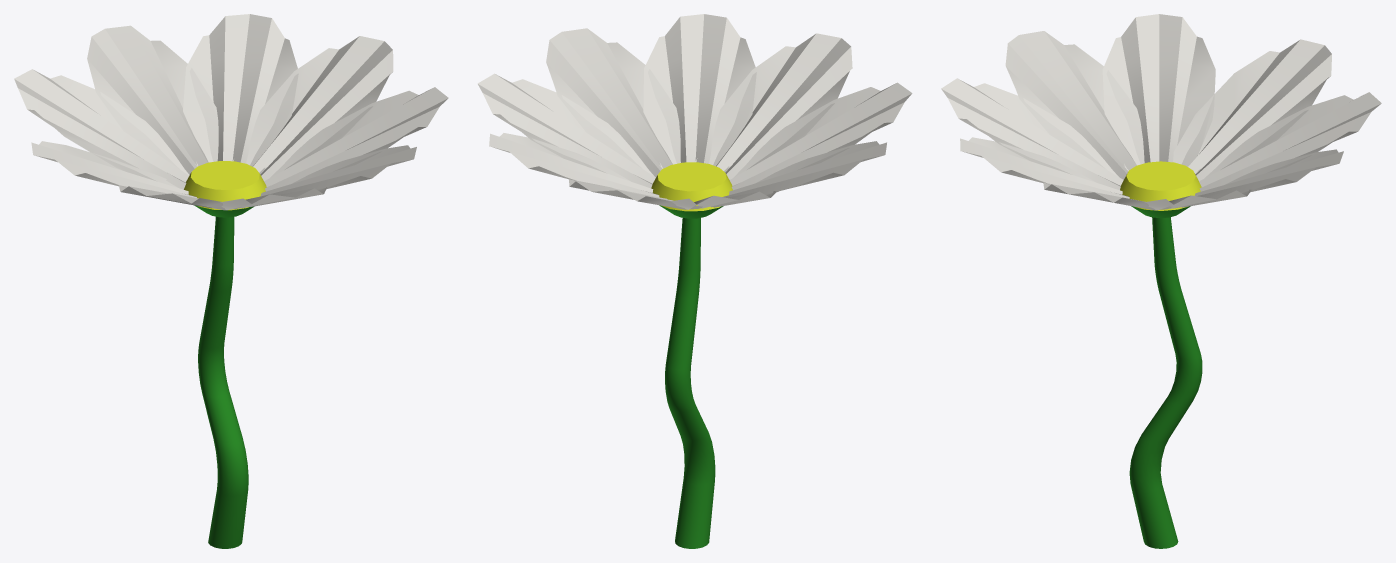
File: bloem-1.fbx
3 views of the same model, side by side, from view 1: azimuth 30°, elevation 25°; view 2: azimuth 150°, elevation 25°; view 3: azimuth 270°, elevation 25° (orthographic).
Visible parts, largest first — view 1: Circle, Circle.001, Circle.002; view 2: Circle, Circle.001, Circle.002; view 3: Circle, Circle.001, Circle.002.
Part boxes in pixels (box(x1,y1,x2,y2)): Circle: box(14, 14, 448, 210); Circle.001: box(194, 205, 254, 548); Circle.002: box(184, 161, 266, 210); Circle: box(477, 14, 912, 209); Circle.001: box(659, 205, 723, 548); Circle.002: box(651, 162, 732, 211); Circle: box(941, 14, 1381, 210); Circle.001: box(1129, 206, 1202, 548); Circle.002: box(1120, 161, 1201, 210).
Bounding box in the file's own units: 452 × 495 × 455.
